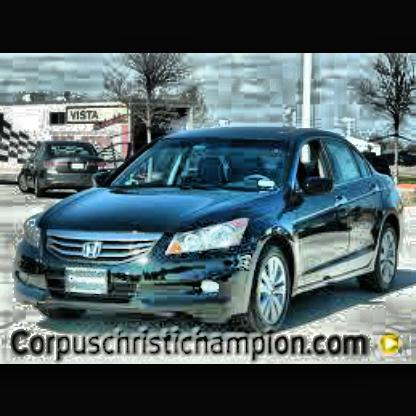Honda Accord Sedan 2012: (17, 130, 407, 335)
